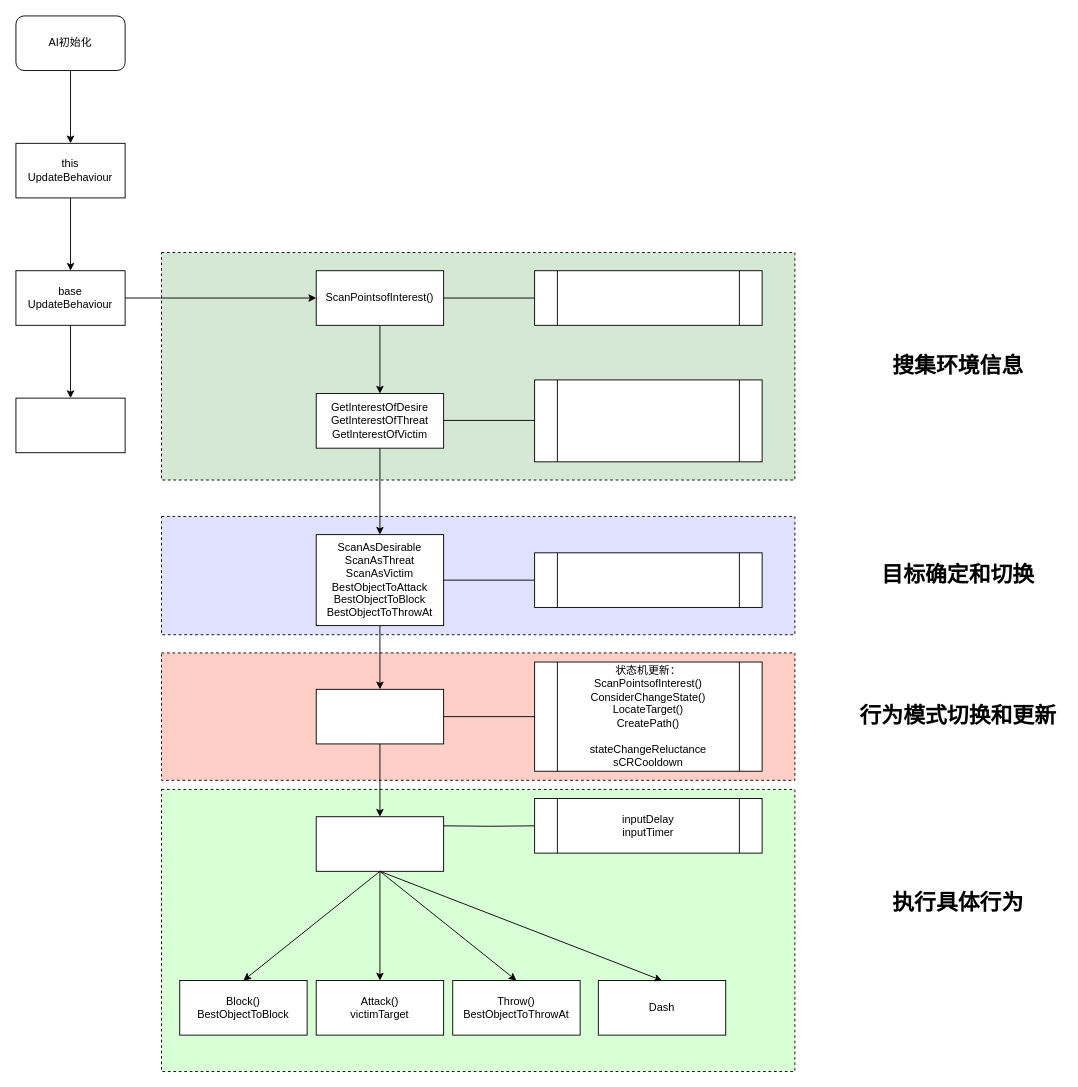
This 1078x1087 diagram has some shape labels left out. Each missing label, with the centre of its shape:
"ConsiderChangeState()" belongs at point (379, 716).
"scanDelay scanTimer" belongs at point (648, 297).
"TakeAction()" belongs at point (379, 843).
"victimTarget：玩家 desireTarget：技能书、掉落飞镖 threatTarget：玩家、飞镖、火焰" belongs at point (648, 579).
"场景中每个Player Attack()" belongs at point (70, 425).
"攻击值，系数aggreesiveMod 期待值，系数greedyMod 威胁值，系数nervousMod 环境兴趣值，系数ambientInterestMod" belongs at point (648, 420).
